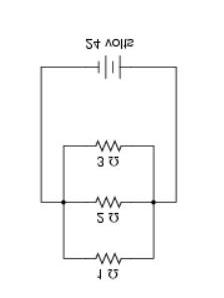Battery: (85, 49, 130, 88)
